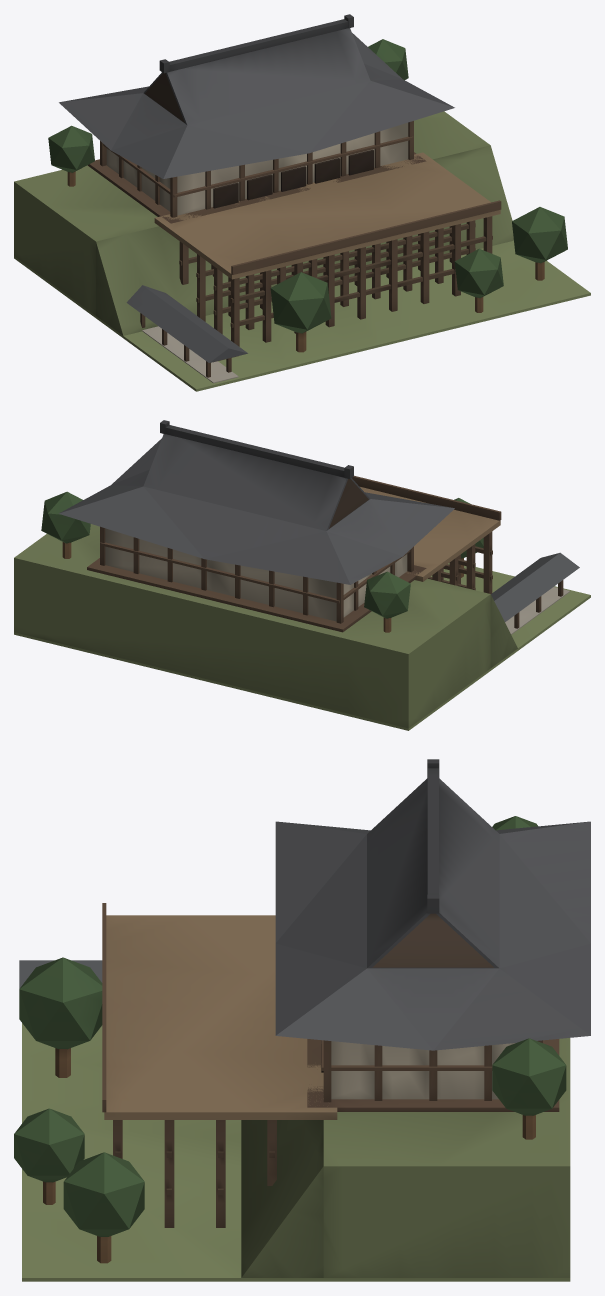
Rendered from nigatsudo.glb.
3 renders of one model, top to bottom at view 1: azimuth 30°, elevation 25°; view 2: azimuth 150°, elevation 25°; view 3: azimuth 270°, elevation 25°, orthographic. The views are drawn at different scales.
Parts seen in each view (by area): view 1: p1_halls, p2_roofs, p0_grounds; view 2: p0_grounds, p2_roofs, p1_halls; view 3: p2_roofs, p0_grounds, p1_halls.
Boxes of the visible parts, <box> form: p1_halls: <box>87,121,501,383</box>; p2_roofs: <box>48,14,567,352</box>; p0_grounds: <box>14,111,590,391</box>; p0_grounds: <box>14,524,590,730</box>; p2_roofs: <box>41,420,483,632</box>; p1_halls: <box>87,475,579,634</box>; p2_roofs: <box>14,759,590,1263</box>; p0_grounds: <box>22,1023,570,1281</box>; p1_halls: <box>19,903,559,1227</box>.
Size of the model in its own units: 50.11 by 24.78 by 42.08.
